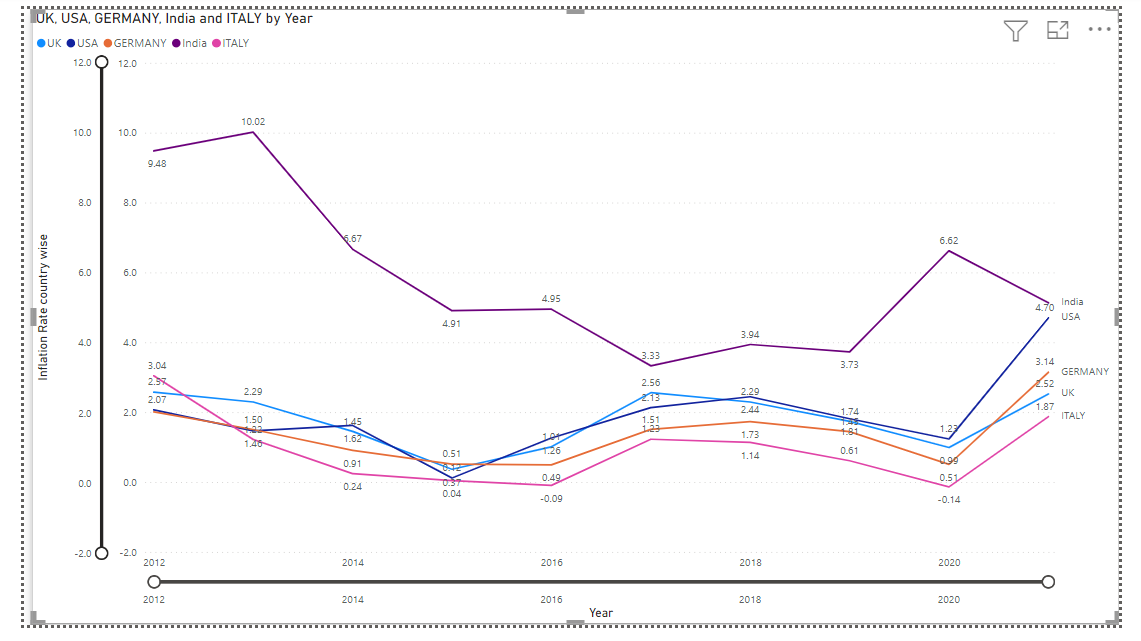

The page's visual inventory and layout, read from the dashboard file:
{"tool":"powerbi","page":{"name":"Page 1","canvas":[1280,720],"ordinal":0},"visuals":[{"type":"lineChart","box":[9.5,0,1026.3,719.5],"z":0},{"type":"lineChart","fields":{"Y":["Sum(Dashboard.UK)","Sum(Dashboard.USA)","Sum(Dashboard.GERMANY)","Sum(Dashboard.India)","Sum(Dashboard.ITALY)"],"Category":["Dashboard.Year"]},"box":[9.2,0,1270.8,719.3],"z":1000}]}

Visuals, with their boxes on the page's 1280x720 design canvas (x1, y1, x2, y2). These are canvas units, not pixel positions in the 1141x641 screenshot, which may show the page scaled, cropped or inside an application window:
lineChart: 10 0 1036 720
lineChart - Sum(Dashboard.UK) x Sum(Dashboard.USA): 9 0 1280 719
